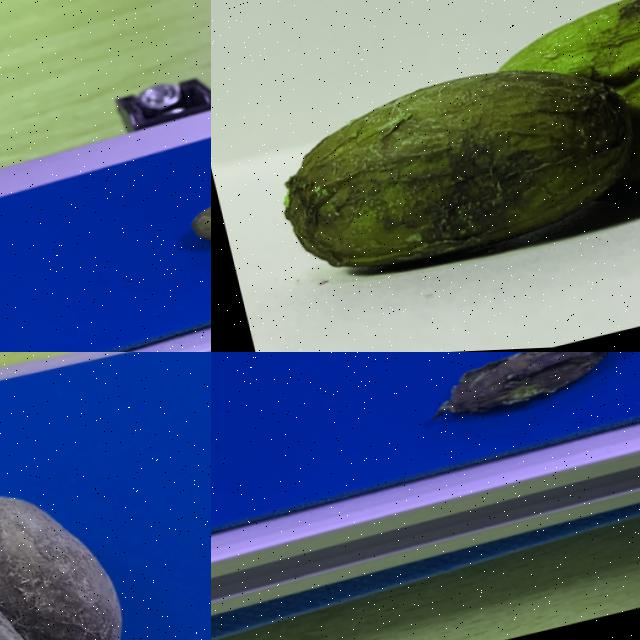Agglomerated_cocoabeans: (219, 0, 639, 337), (0, 445, 210, 639)
Fine_cocoabeans: (89, 107, 210, 337)
Flat_cocoabeans: (339, 352, 639, 475)
